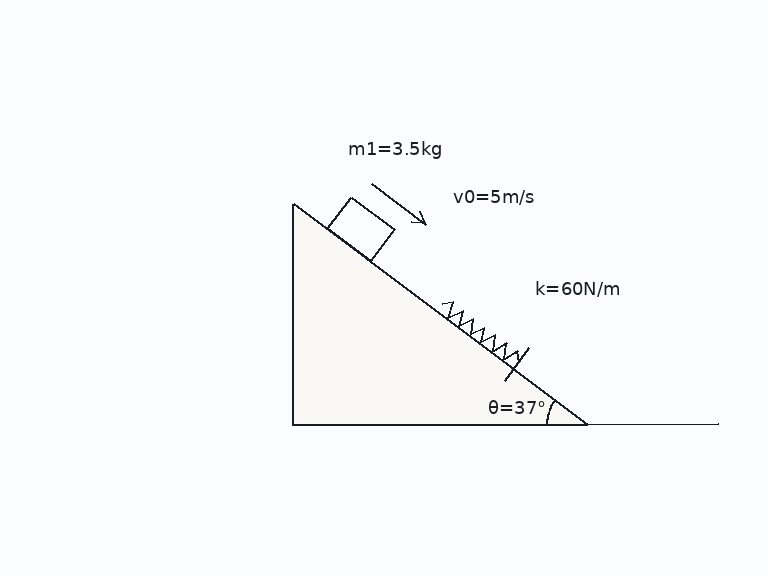block: (326, 195, 396, 263)
ramp: (290, 200, 589, 426)
spring: (440, 300, 521, 363)
